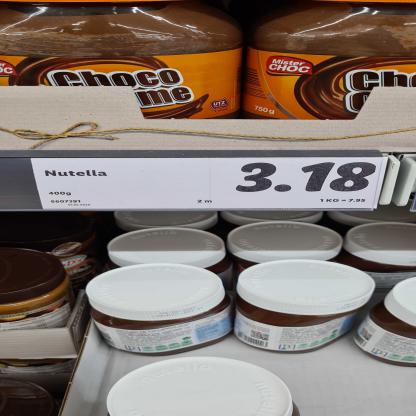prtg: (32, 158, 388, 211)
